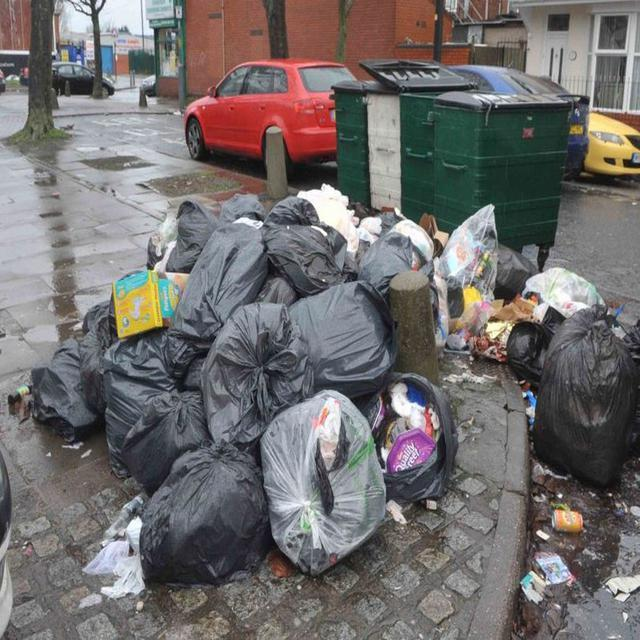garbage: (5, 176, 395, 593), (396, 203, 640, 504), (515, 507, 599, 609)
